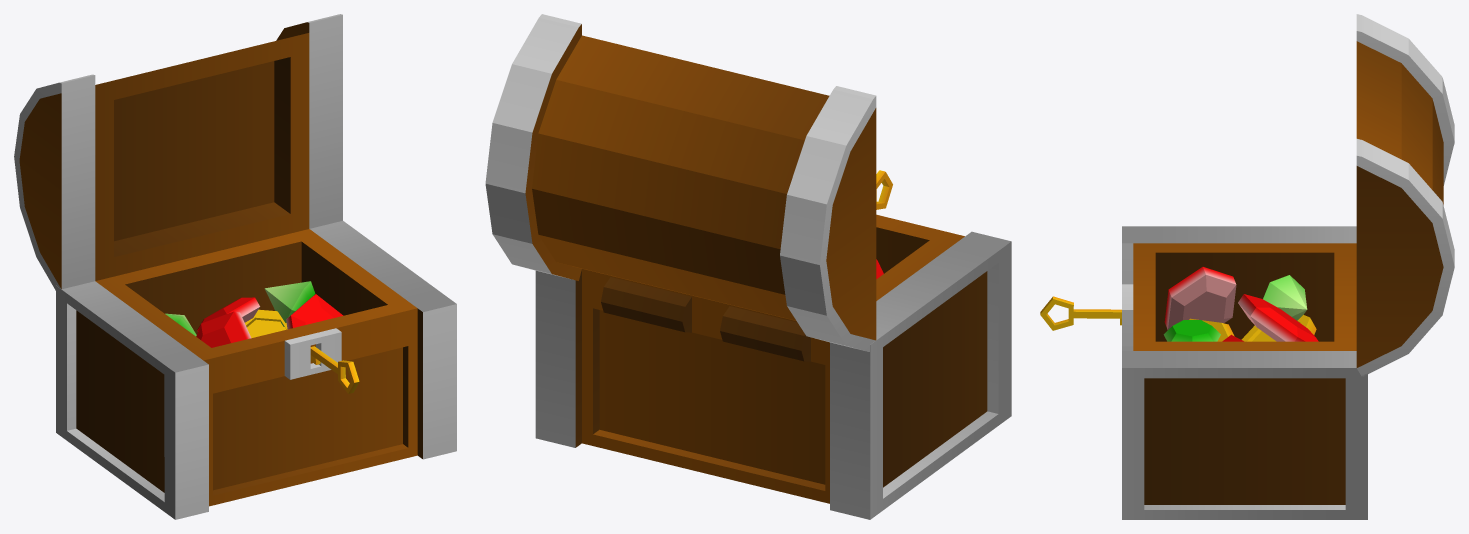
File: GAM0110032.fbx
3 renders of one model, left to right at view 1: azimuth 30°, elevation 25°; view 2: azimuth 150°, elevation 25°; view 3: azimuth 270°, elevation 25°, orthographic. The views are drawn at different scales.
Visible parts, largest first — view 1: smGAM0110032; view 2: smGAM0110032; view 3: smGAM0110032.
Boxes of the visible parts, x1,y1,x2,y2 form: smGAM0110032: [14, 14, 456, 519]; smGAM0110032: [485, 14, 1011, 519]; smGAM0110032: [1040, 14, 1454, 519].
Size of the model in its own units: 162 by 194 by 200.
1 material, 1 textured.
